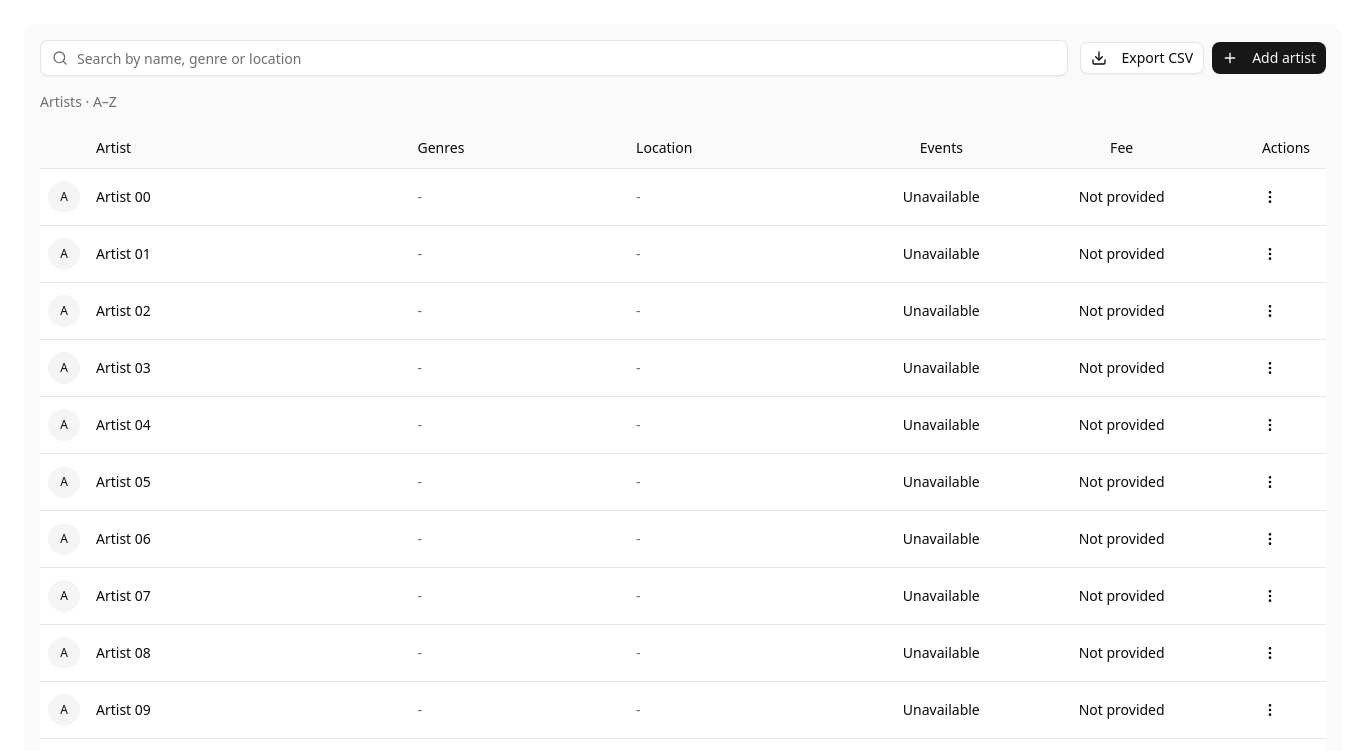
Test: labels search and clearing restores all rows, page one and input focus
Type "Artist" into the search field named "Search artists" at (554, 58), box [40,40,1068,76]
(page scrolled)
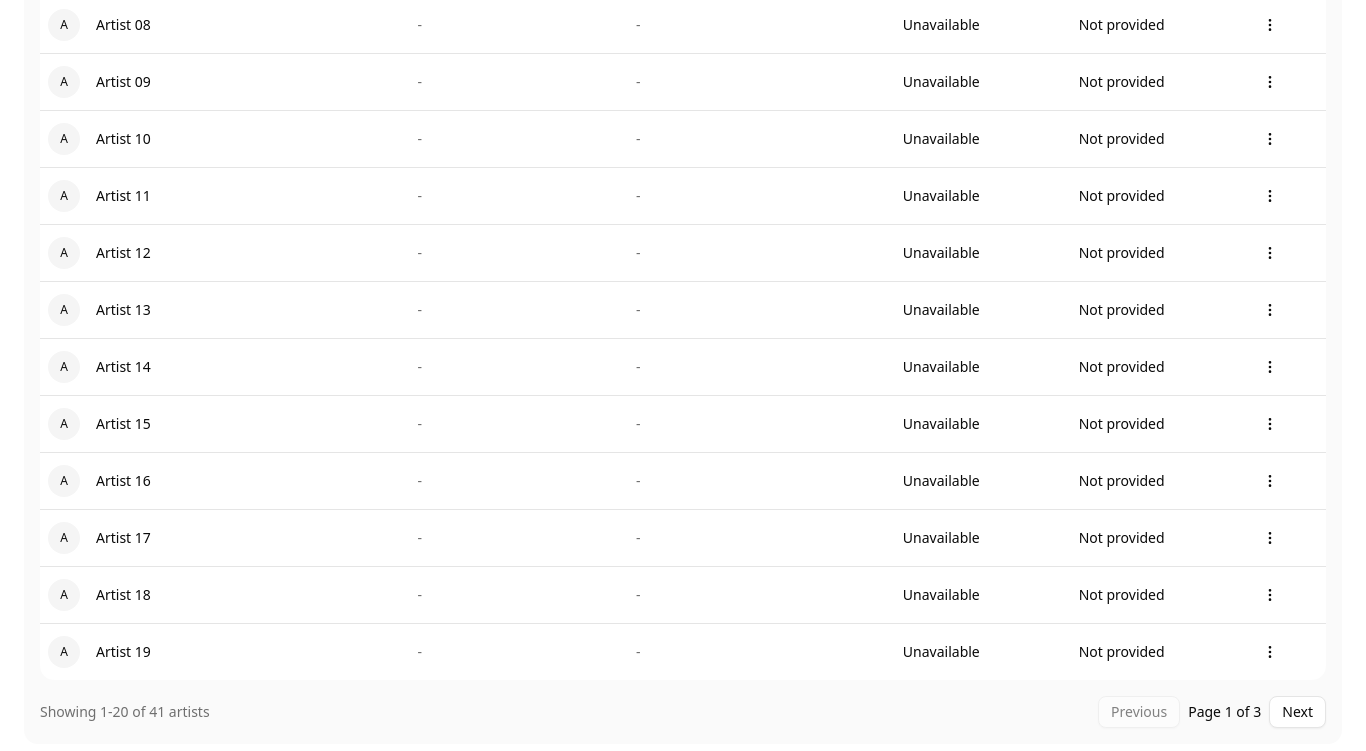
Click the button "Next" at (1298, 712), box [1269,696,1326,728]
(page scrolled)
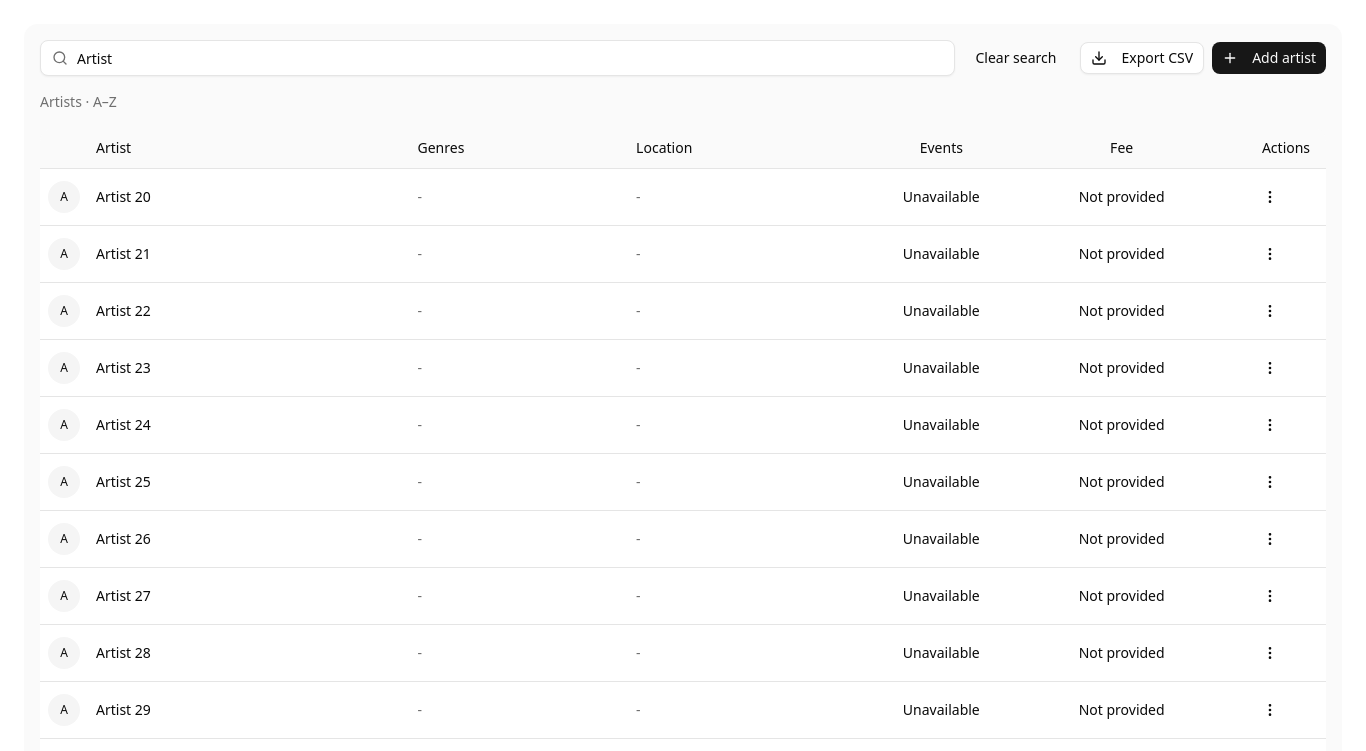
Click the button "Clear search" at (1016, 58), box [964,42,1068,74]
(page scrolled)
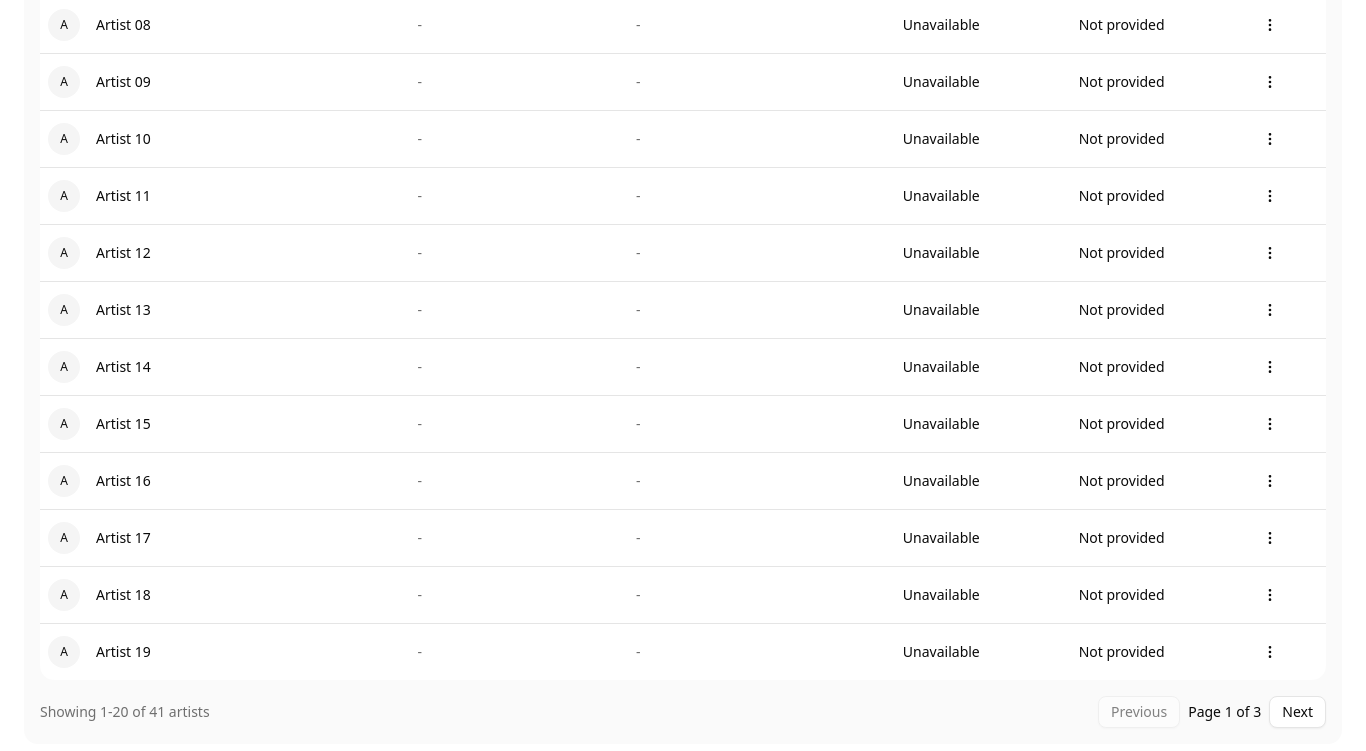
Expected: the text "Showing 1-20 of 41 artists" is shown, [40,702,210,722]
